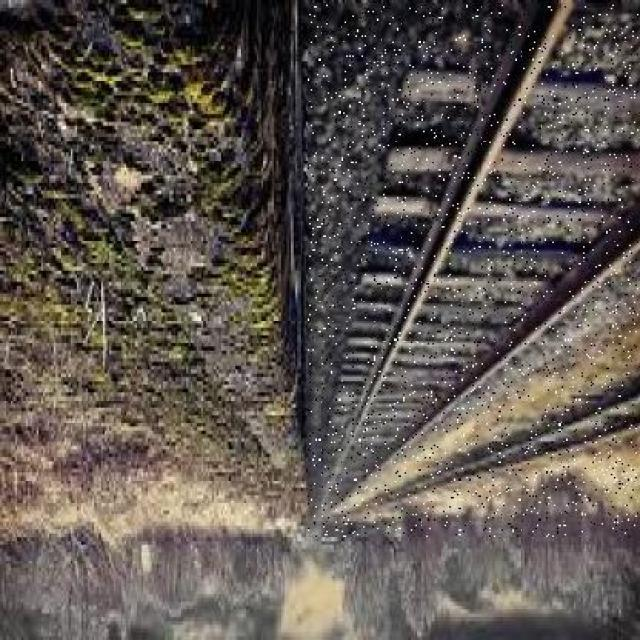rail: (308, 5, 638, 536)
